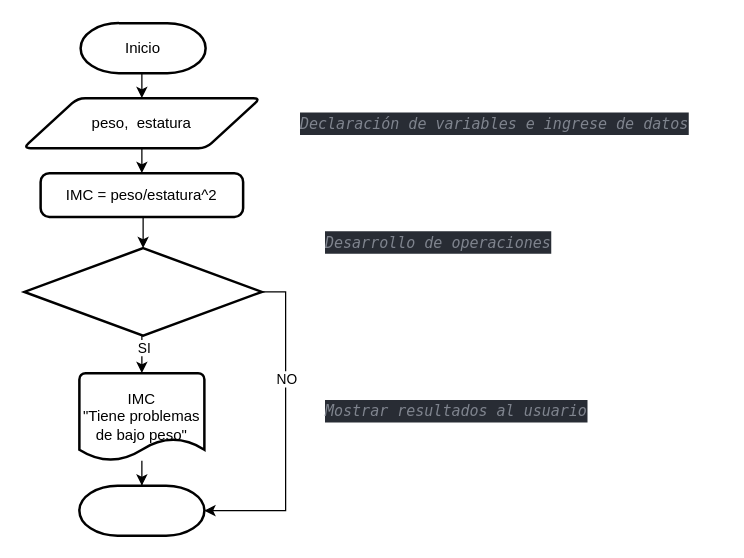
The diagram is 744 pixels wide and 558 high, and some of its shapes have lost their labels. The centre of each missing label's shape, as x and y in pixels:
Fin: (x=141, y=510)
IMC < 18.5: (x=142, y=291)
